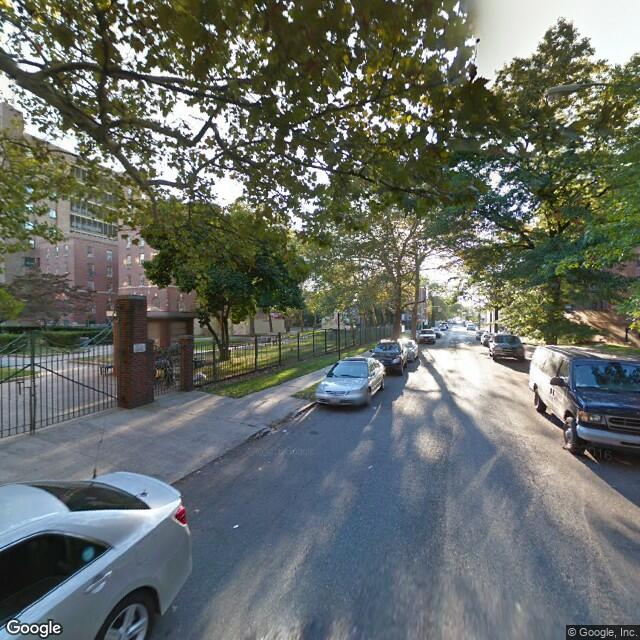litter: (230, 523, 238, 528), (366, 463, 372, 467), (282, 427, 285, 431), (192, 506, 198, 507)
